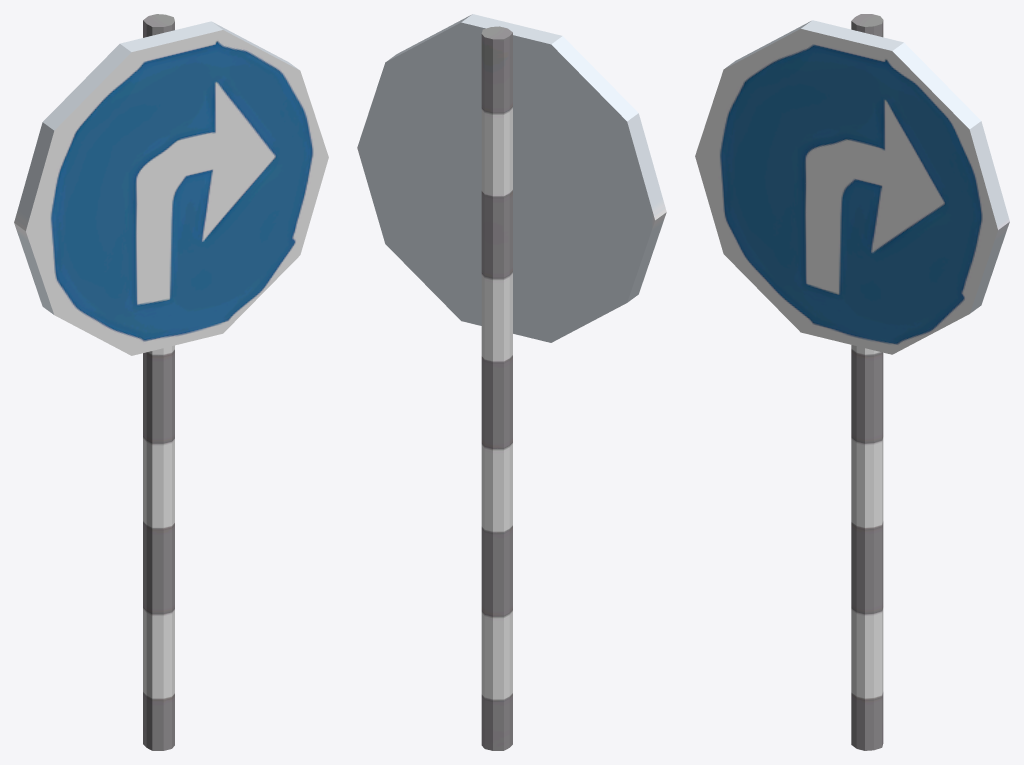
File: Turn.glb
3 renders of one model, left to right at view 1: azimuth 30°, elevation 25°; view 2: azimuth 150°, elevation 25°; view 3: azimuth 330°, elevation 25°, orthographic.
Visible parts, largest first — view 1: Turn; view 2: Turn; view 3: Turn.
Boxes of the visible parts, left/top/right/bottom form: Turn: left=14, top=14, right=328, bottom=750; Turn: left=357, top=14, right=666, bottom=750; Turn: left=695, top=14, right=1009, bottom=750.
Bounding box in the file's own units: 110 × 251 × 16.98.
1 material, 1 textured.
